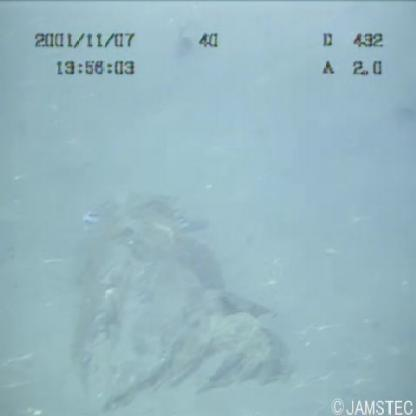Rác: (65, 190, 288, 416)
